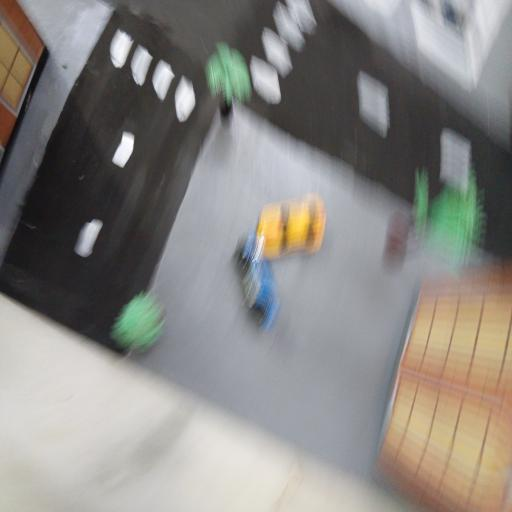car crash: (234, 192, 324, 333)
